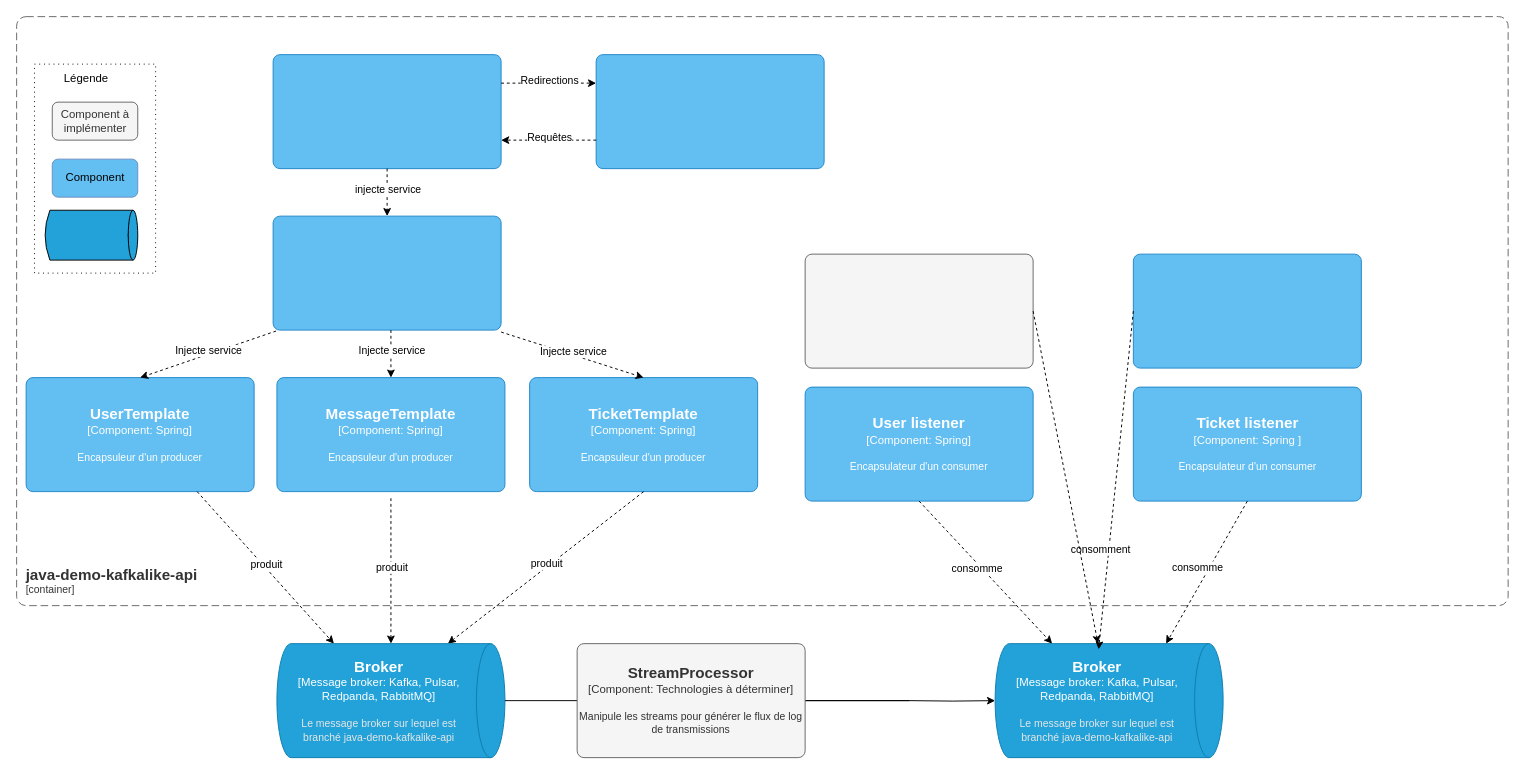
Some shapes in this 1525 by 774 pixel diagram are drawn without their labels. The shapes that lost their labels are listed below. From the top down, each one's centre as x and y in pixels, then its label:
[386,111]: FormController [Component: Spring] Gère la donnée des formulaires
[709,111]: Client [Component: Java/Thymeleaf] Interface utilisateur
[88,234]: bus container
[386,272]: Sender [Component: Spring interface] Commande la production dans le broker
[918,310]: Transmission listener [Component: Spring] Encapsulateur d'un consumer
[1246,310]: Message listener [Component: Spring] Encapsulateur d'un consumer
